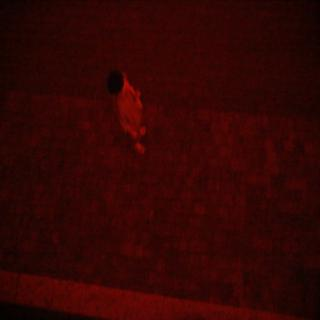person: (94, 58, 158, 164)
